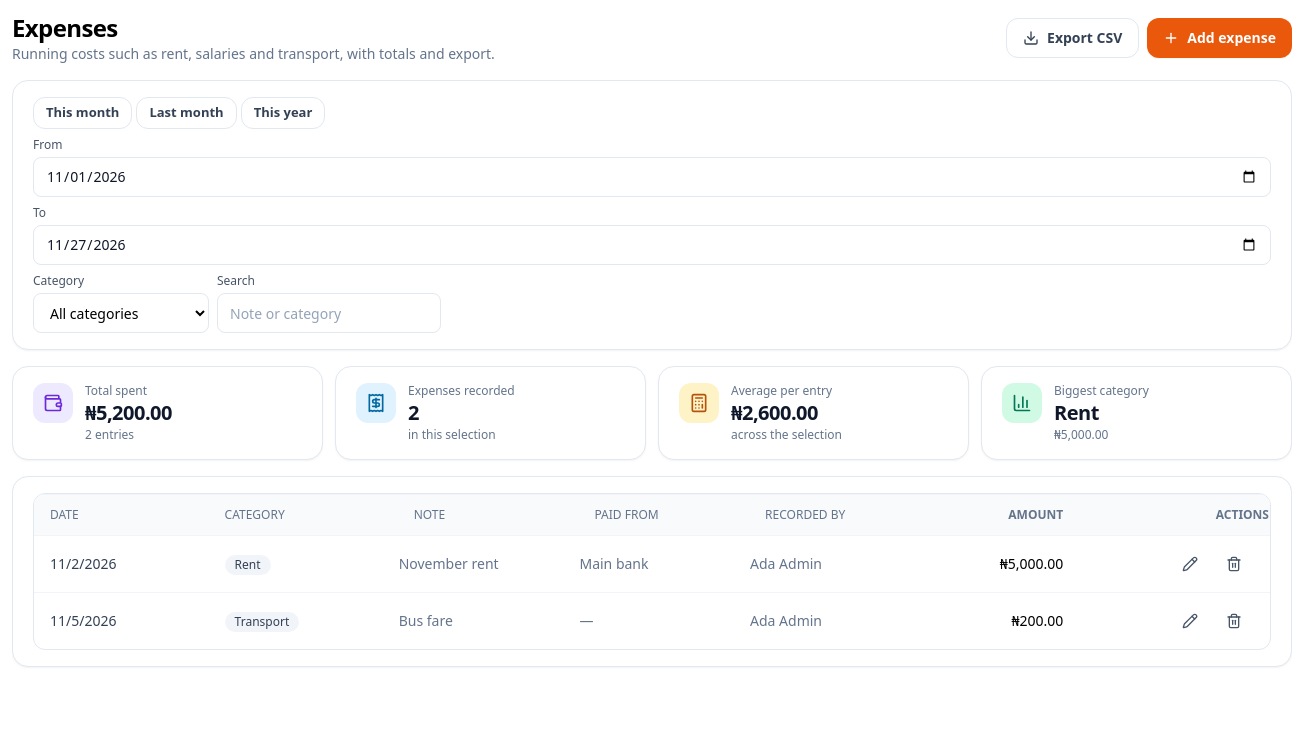
ExpensesPage › searches notes within the selected period
Expected: the text "November rent" is shown, left=398, top=536, right=578, bottom=592
In the field labelled "Search": (329, 313) left=217, top=293, right=441, bottom=333, type "bus"
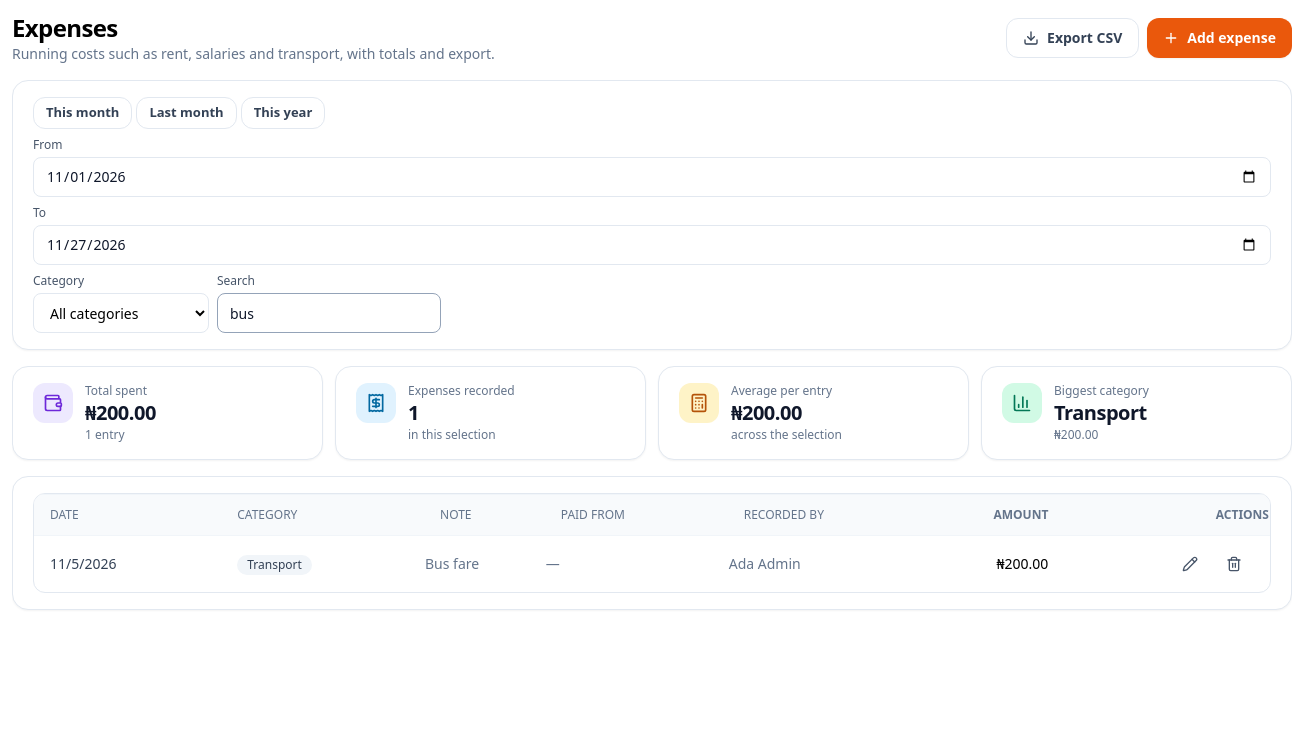
Expected: the text "Bus fare" is shown, left=424, top=536, right=545, bottom=592
Now the text "November rent" is gone
